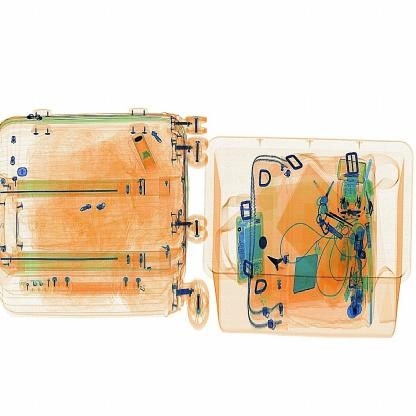gun: (260, 244, 292, 292)
